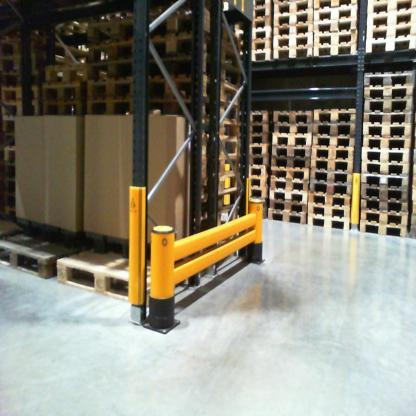pallet: (58, 246, 210, 308), (2, 229, 86, 282), (143, 9, 240, 53), (142, 37, 240, 74), (143, 58, 243, 89), (1, 36, 89, 68), (148, 77, 244, 106), (152, 98, 243, 126), (88, 8, 147, 51), (184, 189, 240, 225), (2, 51, 90, 72), (84, 94, 143, 123), (81, 56, 141, 83), (186, 210, 242, 238), (189, 115, 243, 144), (89, 36, 142, 65), (84, 74, 143, 99), (189, 152, 244, 178), (189, 170, 242, 194), (358, 180, 410, 204), (357, 216, 407, 239), (188, 135, 241, 156), (361, 69, 416, 89), (364, 9, 415, 30), (40, 65, 86, 86), (360, 145, 409, 164), (364, 35, 415, 53), (38, 83, 83, 103), (33, 103, 83, 121), (361, 120, 411, 138), (312, 40, 359, 59), (360, 208, 409, 226), (313, 105, 357, 125), (360, 159, 411, 176), (316, 3, 358, 23), (307, 212, 350, 231), (361, 171, 411, 187), (272, 107, 314, 126), (0, 68, 44, 86), (309, 143, 355, 160), (308, 190, 349, 209), (0, 84, 43, 102), (311, 122, 356, 139), (271, 138, 311, 157), (360, 98, 414, 112), (266, 187, 308, 205), (313, 30, 359, 46), (308, 178, 354, 194), (311, 133, 357, 149), (271, 46, 313, 63), (270, 1, 314, 17), (271, 120, 315, 136), (360, 85, 414, 98), (360, 199, 410, 213), (266, 207, 307, 224), (360, 136, 412, 149), (307, 204, 351, 219), (364, 25, 414, 38), (2, 102, 40, 119), (272, 10, 314, 25), (310, 168, 355, 182), (273, 19, 310, 36), (314, 17, 358, 31), (269, 198, 307, 214), (266, 176, 309, 190), (309, 158, 355, 171), (361, 111, 414, 122), (269, 156, 309, 169), (267, 168, 309, 180), (271, 132, 312, 144), (248, 106, 272, 125), (366, 4, 415, 13), (273, 36, 313, 47), (1, 114, 22, 133), (248, 47, 271, 63), (250, 4, 274, 19), (314, 1, 358, 9), (250, 175, 272, 191), (248, 164, 272, 178), (248, 143, 273, 156), (249, 27, 273, 40), (1, 206, 18, 224), (249, 187, 268, 203), (4, 131, 21, 148), (2, 186, 16, 206), (249, 17, 274, 28), (248, 37, 274, 47), (0, 147, 16, 163), (248, 134, 273, 143), (248, 125, 273, 134), (2, 163, 16, 179), (2, 179, 15, 195), (247, 156, 273, 164), (250, 1, 273, 9)
